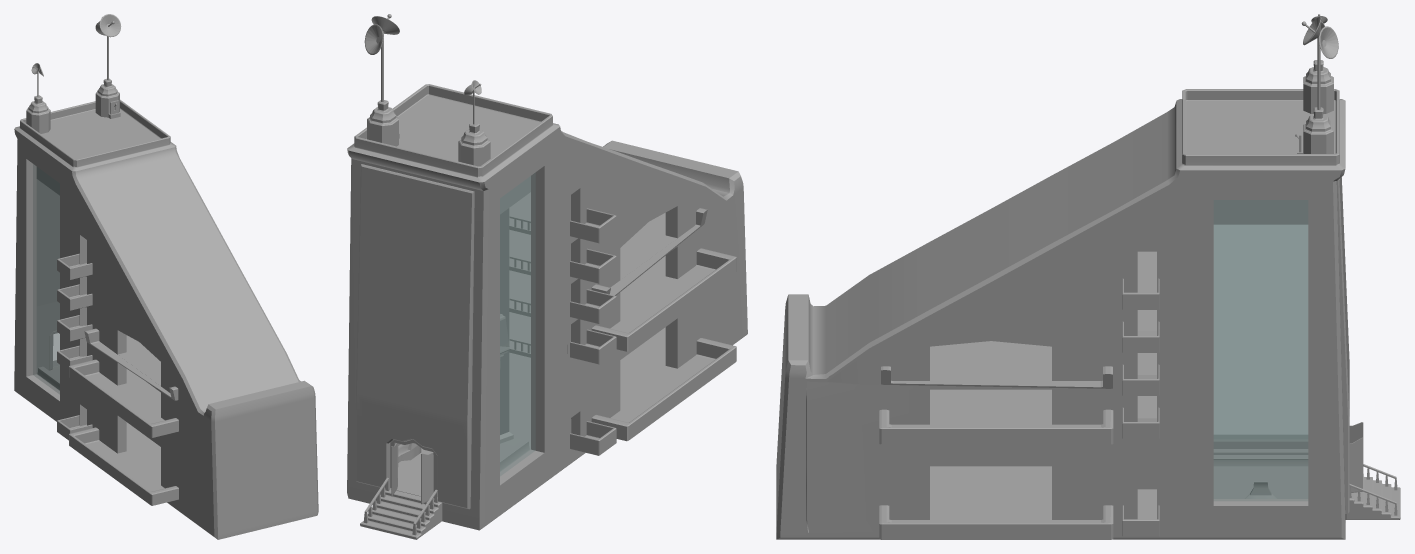
File: hotle.fbx
3 renders of one model, left to right at view 1: azimuth 30°, elevation 25°; view 2: azimuth 150°, elevation 25°; view 3: azimuth 270°, elevation 25°, orthographic. The views are drawn at different scales.
Parts seen in each view (by area): view 1: Hotel2, S_wall, Glass2, F_wall2, pCube21, pCube5, pCube15, pCube42, pCube43, pCube19, pCube20, rh_Floor (+5 smaller); view 2: Hotel2, F_wall2, S_wall, Glass2, pCube21, pCube5, Stairs, Elevator_Shaft, rh_Floor, nd_floor, pCube15, pCube43 (+10 smaller); view 3: Hotel2, S_wall, Glass3, Glass2, pCube5, pCube21, rh_Floor, nd_floor, F_wall2, Stairs, pCube15, pCube42 (+4 smaller).
Boxes of the visible parts, x1,y1,x2,y2 form: Hotel2: (14,99,318,539); S_wall: (77,190,196,516); Glass2: (33,164,59,393); F_wall2: (36,179,59,373); pCube21: (69,427,178,505); pCube5: (69,359,178,437); pCube15: (84,328,178,400); pCube42: (26,95,50,133); pCube43: (95,78,119,117); pCube19: (57,284,92,310); pCube20: (57,253,92,279); rh_Floor: (126,335,160,376); Hotel2: (347,84,747,530); F_wall2: (356,164,474,509); S_wall: (567,140,724,455); Glass2: (500,173,535,475); pCube21: (591,338,736,441); pCube5: (591,248,736,351); Stairs: (360,477,442,539); Elevator_Shaft: (500,208,513,443); rh_Floor: (509,213,665,316); nd_floor: (509,256,665,357); pCube15: (591,208,707,295); pCube43: (367,100,398,146); Hotel2: (776,89,1345,539); S_wall: (806,191,1165,532); Glass3: (1213,200,1308,500); Glass2: (1214,225,1307,439); pCube5: (879,409,1113,444); pCube21: (879,505,1113,539); rh_Floor: (930,341,1156,374); nd_floor: (930,389,1156,418); F_wall2: (1337,177,1349,513); Stairs: (1345,464,1400,519); pCube15: (881,366,1112,388); pCube42: (1303,60,1333,113).
Size of the model in its own units: 669 by 1461 by 1620.
